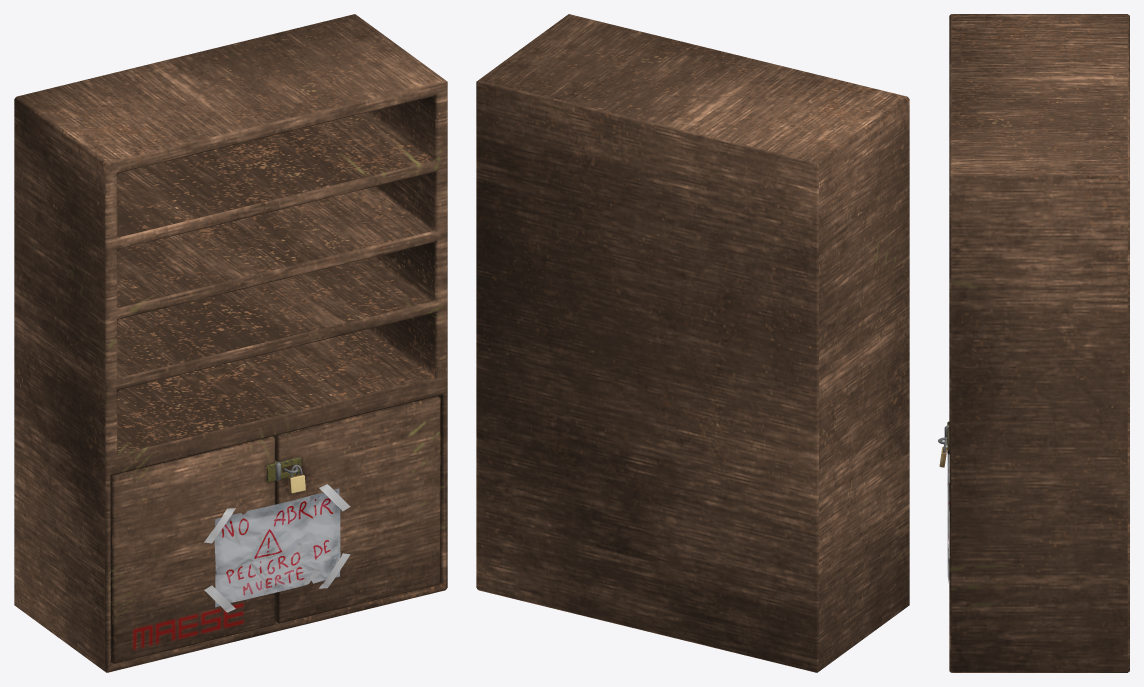
Rendered from Estanteria.fbx.
3 renders of one model, left to right at view 1: azimuth 30°, elevation 25°; view 2: azimuth 150°, elevation 25°; view 3: azimuth 270°, elevation 25°, orthographic. The views are drawn at different scales.
Parts seen in each view (by area): view 1: Armario, Papel, Plane; view 2: Armario; view 3: Armario.
Part boxes in pixels (left/top/right/bottom): Armario: left=14, top=14, right=447, bottom=672; Papel: left=214, top=488, right=340, bottom=607; Plane: left=204, top=484, right=350, bottom=612; Armario: left=476, top=14, right=909, bottom=672; Armario: left=938, top=14, right=1129, bottom=672.
Bounding box in the file's own units: 118 × 167 × 58.43.
Materials: 3 (2 with a texture image).
